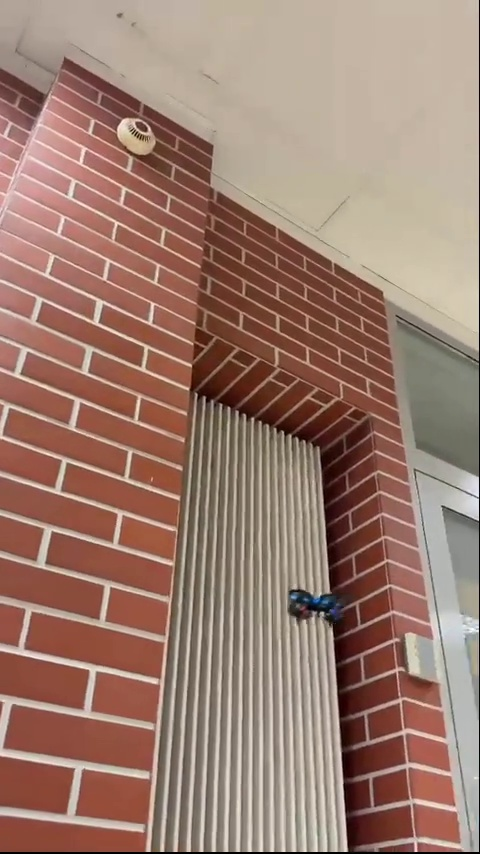drone: (286, 588, 342, 625)
